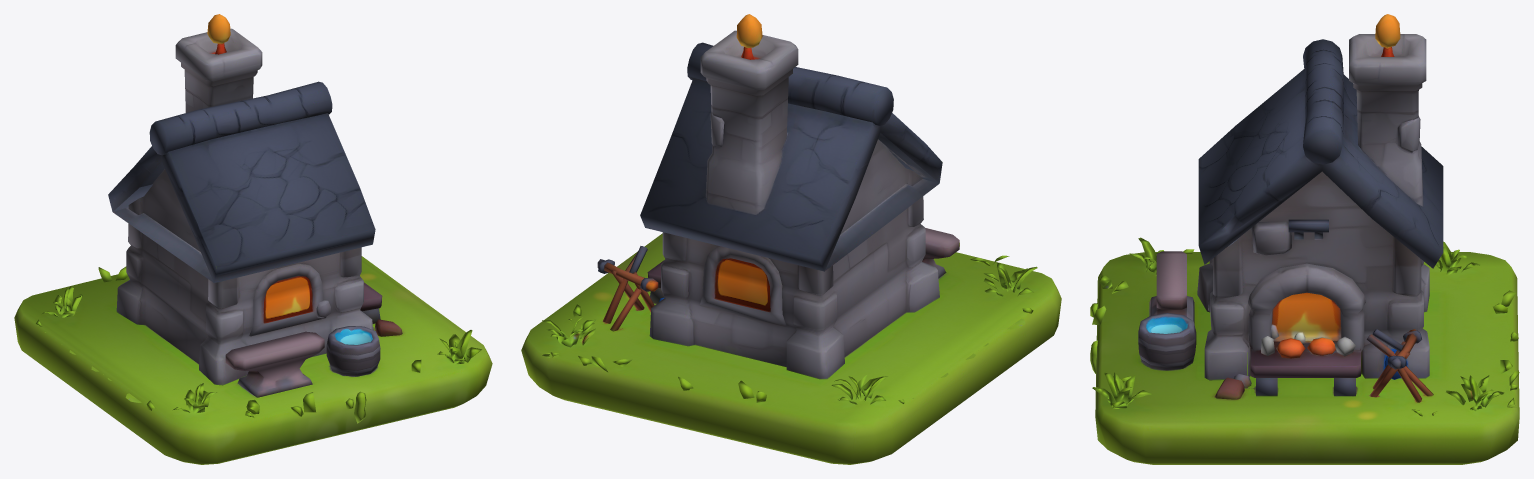
The model's file is herreria.glb.
3 views of the same model, side by side, from view 1: azimuth 30°, elevation 25°; view 2: azimuth 150°, elevation 25°; view 3: azimuth 270°, elevation 25° (orthographic). The views are drawn at different scales.
Visible parts, largest first — view 1: tripo_node_bac8c02c-e891-47d1-a1f9-ef9eecf019e4; view 2: tripo_node_bac8c02c-e891-47d1-a1f9-ef9eecf019e4; view 3: tripo_node_bac8c02c-e891-47d1-a1f9-ef9eecf019e4.
Boxes of the visible parts, x1,y1,x2,y2 form: tripo_node_bac8c02c-e891-47d1-a1f9-ef9eecf019e4: (14, 14, 492, 464); tripo_node_bac8c02c-e891-47d1-a1f9-ef9eecf019e4: (521, 14, 1061, 464); tripo_node_bac8c02c-e891-47d1-a1f9-ef9eecf019e4: (1090, 14, 1519, 464).
Bounding box in the file's own units: 0.9863 × 0.9473 × 0.998.
1 material, 1 textured.
